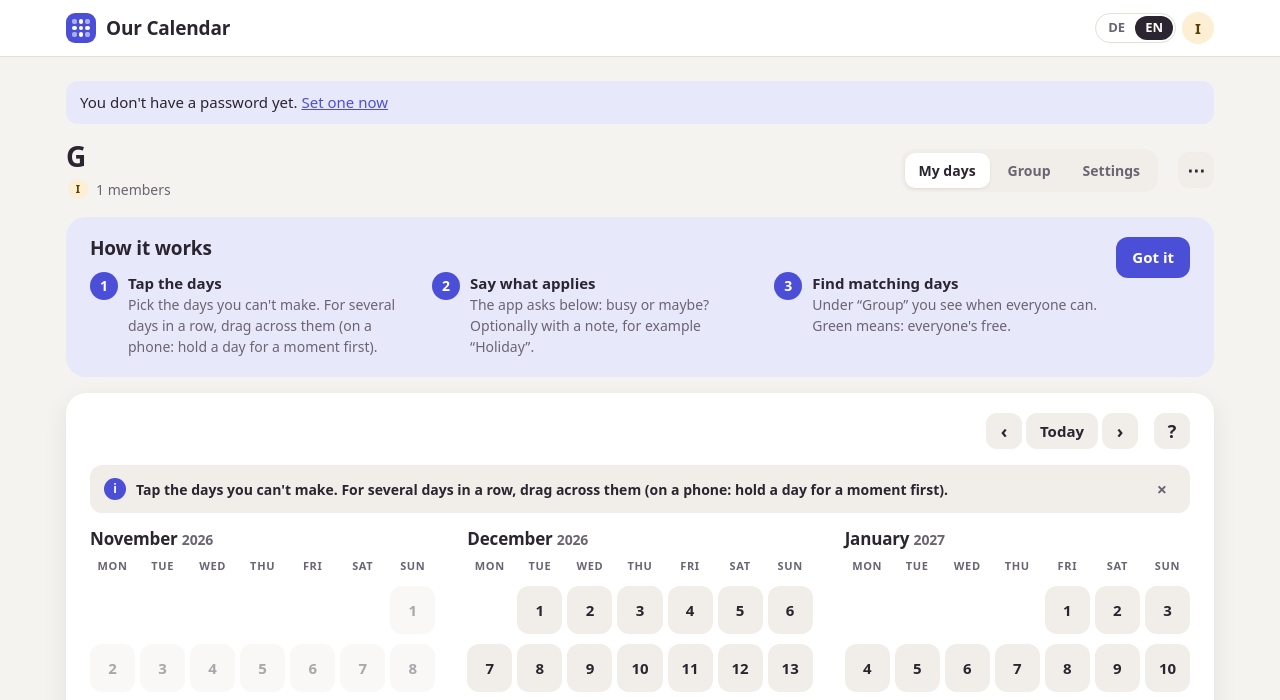
Test: the intro card shows until dismissed, and ? brings it back with the keyboard help
Expected: the heading "How it works" is shown, [90, 235, 212, 261]
Click the button "Got it".
click(1153, 257)  # box [1116, 237, 1190, 278]
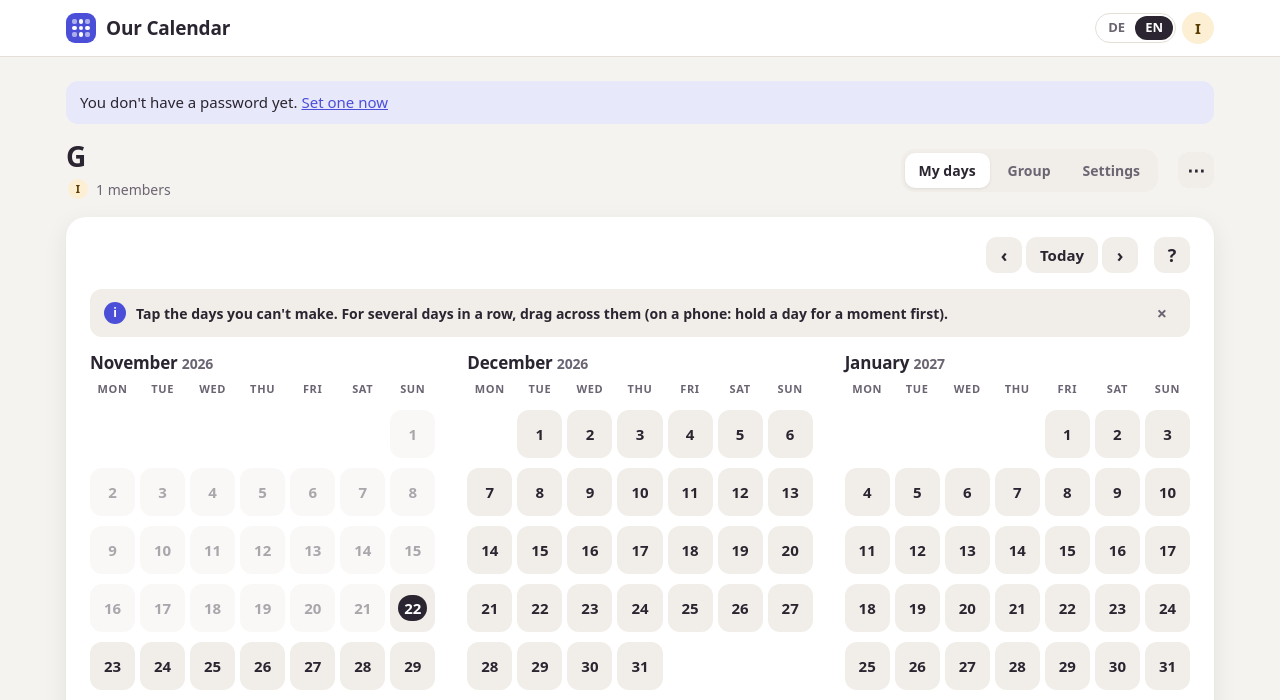
Expected: the heading "How it works" is gone
Click the button named "Help".
click(1172, 255)  # box [1154, 237, 1190, 273]
(page scrolled)
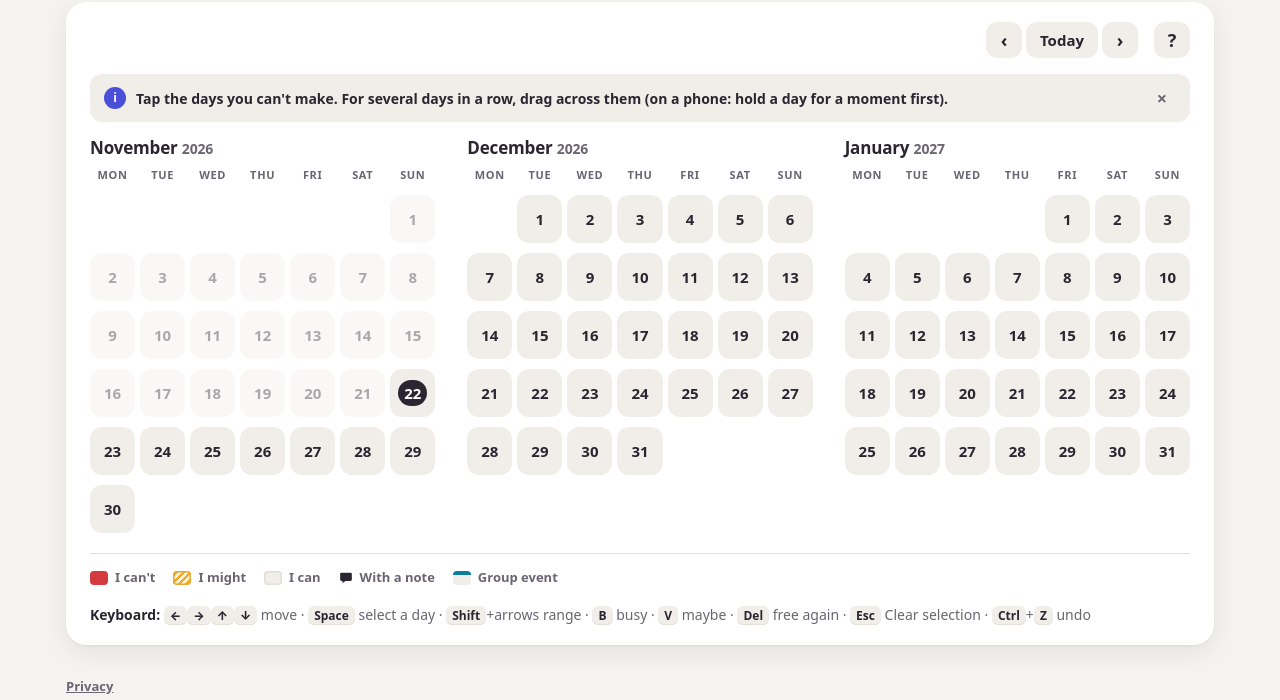
Expected: the text "Keyboard:" is shown, [90, 605, 160, 624]
